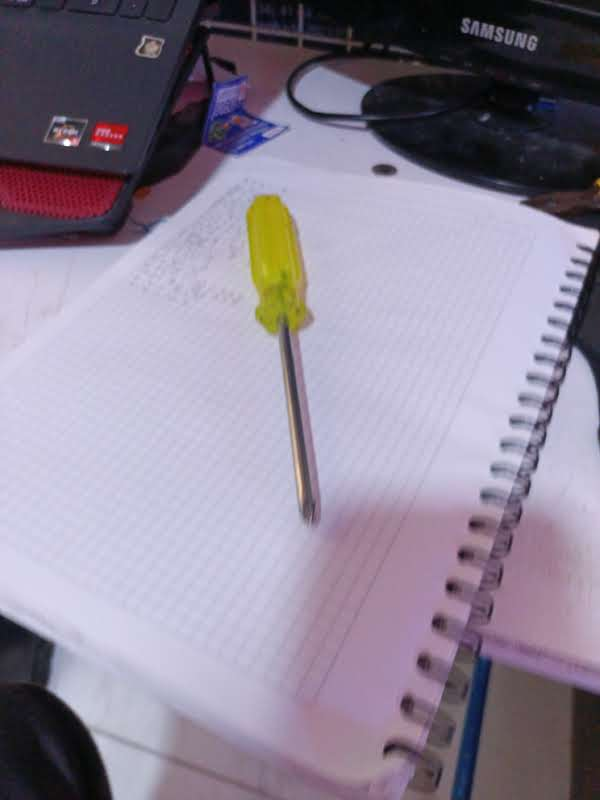Destornillador: (247, 195, 320, 524)
